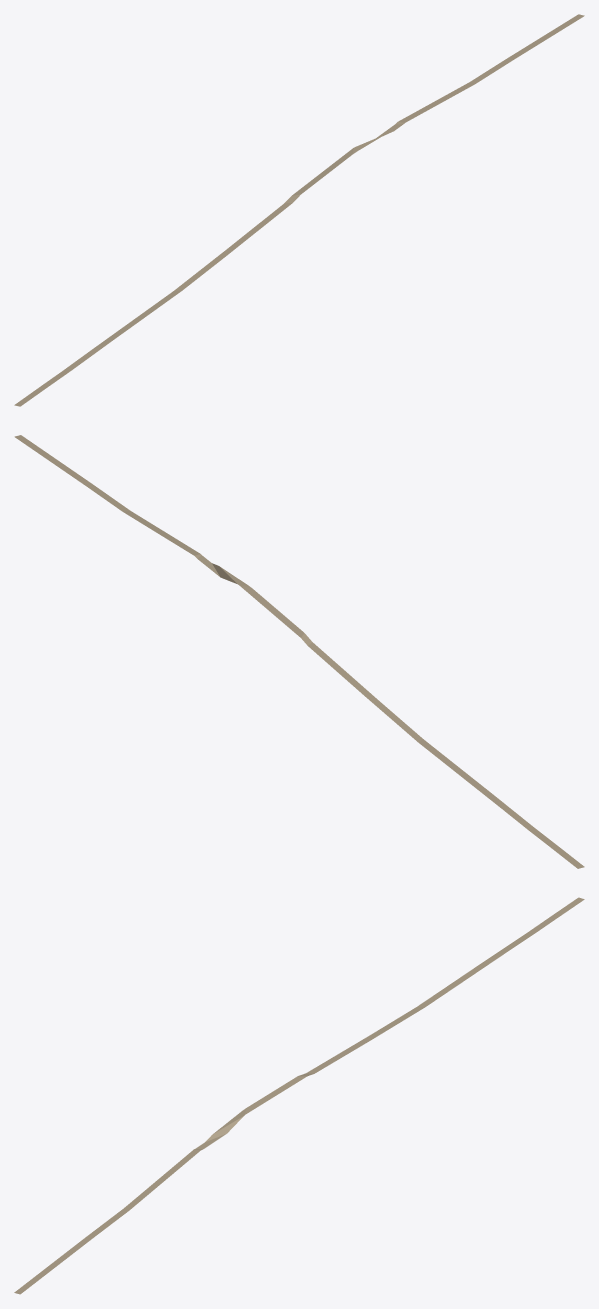
The model's file is farm_-4_15_track.glb.
3 views of the same model, one above another, from view 1: azimuth 90°, elevation 25°; view 2: azimuth 150°, elevation 25°; view 3: azimuth 270°, elevation 25° (orthographic). The views are drawn at different scales.
Parts seen in each view (by area): view 1: geometry_0; view 2: geometry_0; view 3: geometry_0.
Boxes of the visible parts, <box> form: geometry_0: <box>14,14,584,406</box>; geometry_0: <box>14,435,584,868</box>; geometry_0: <box>14,897,584,1294</box>.
Size of the model in its own units: 409 by 11.2 by 250.
